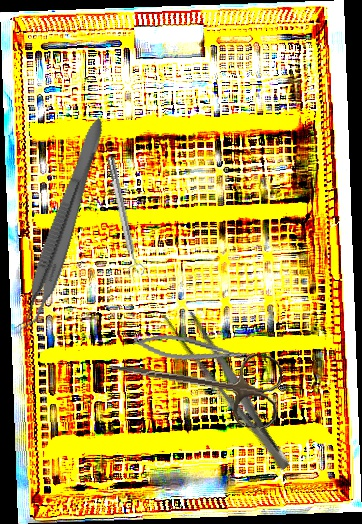Dressing Forceps: (158, 299, 301, 477)
Fixation Ring: (102, 154, 146, 279)
Iris Scissors: (103, 334, 285, 431)
Needle Holder: (131, 328, 252, 372)
Tissue Forceps: (13, 112, 108, 339)
